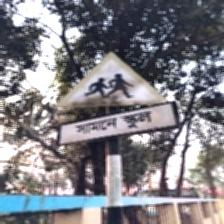School-in-front: (56, 50, 177, 148)
